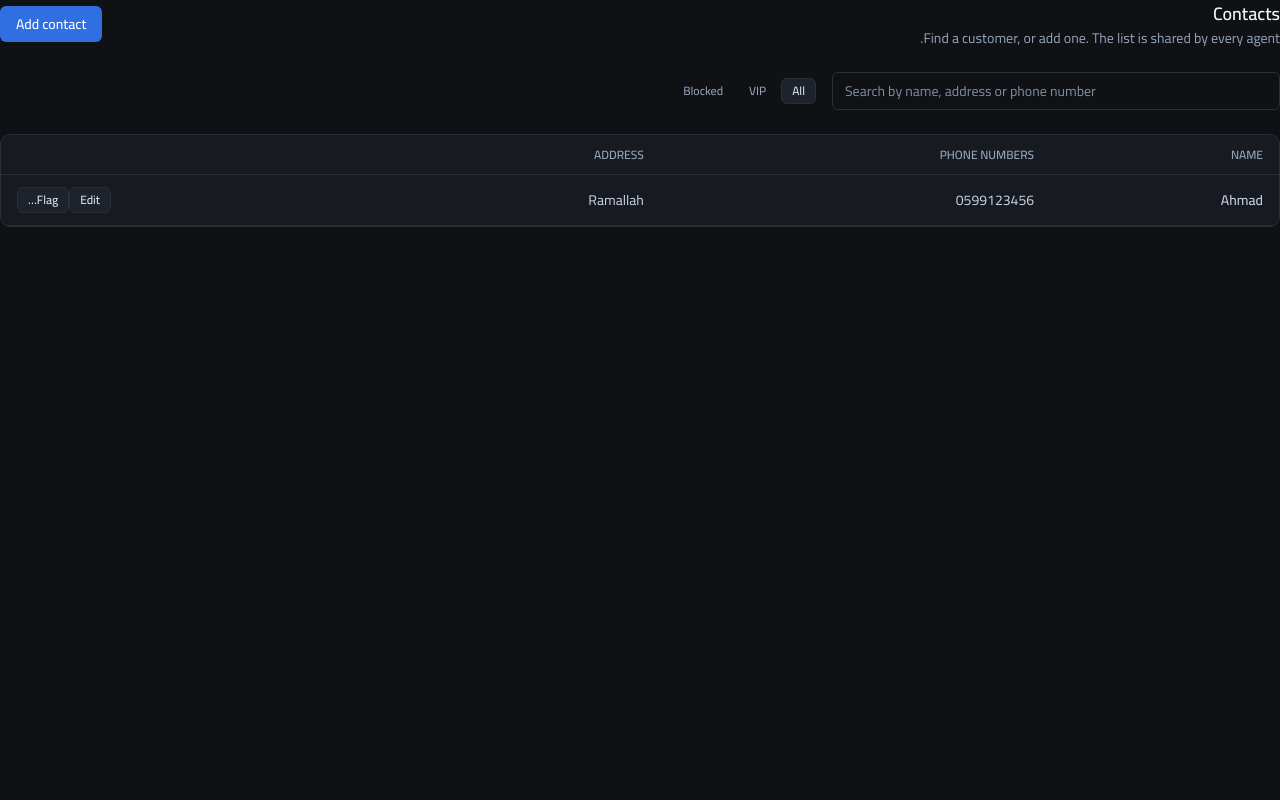
Scenario: contacts page › opens a contact under its own row on double-click, not above the table
The width and height of the screenshot is (1280, 800).
Double-click the text "Ahmad": (640, 200) [1,175,1279,226]
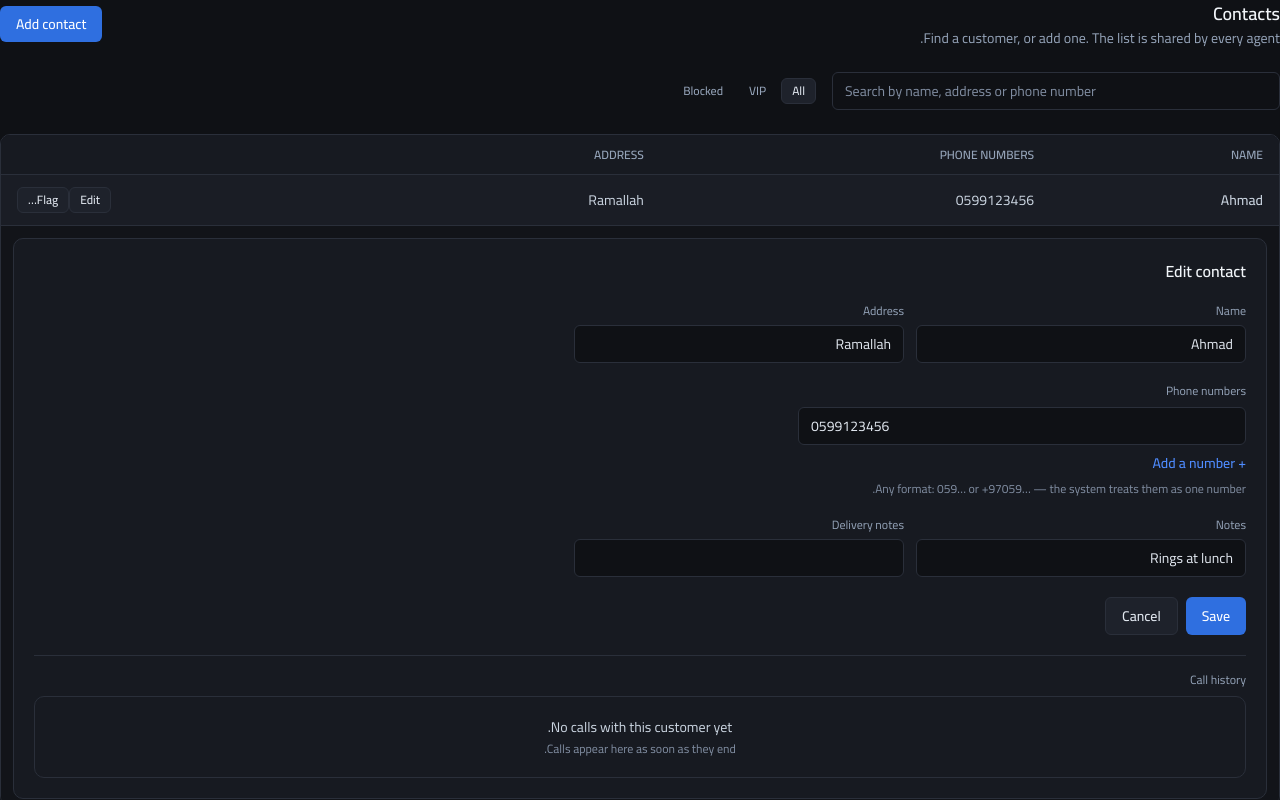
expect the field showing "Rings at lunch" is shown: met, box [916,539,1246,577]
